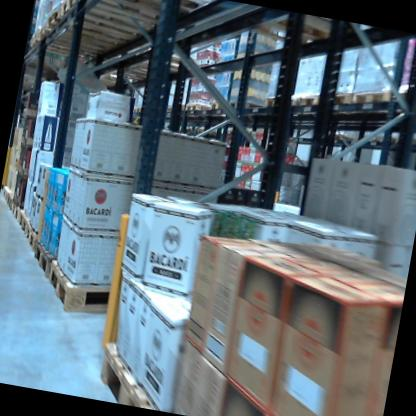pallet: (94, 336, 179, 411), (29, 15, 137, 71), (57, 0, 185, 45), (40, 257, 116, 320), (42, 3, 137, 51), (75, 0, 203, 25), (113, 43, 189, 83), (26, 235, 64, 284), (348, 84, 394, 121), (359, 128, 416, 153), (225, 93, 264, 119), (316, 126, 352, 151), (318, 86, 349, 114), (266, 90, 297, 114), (19, 219, 40, 254), (292, 88, 319, 115), (394, 81, 416, 114), (12, 206, 29, 235), (206, 96, 228, 116), (185, 99, 208, 116), (7, 199, 19, 220), (4, 191, 14, 212), (0, 185, 10, 202)
